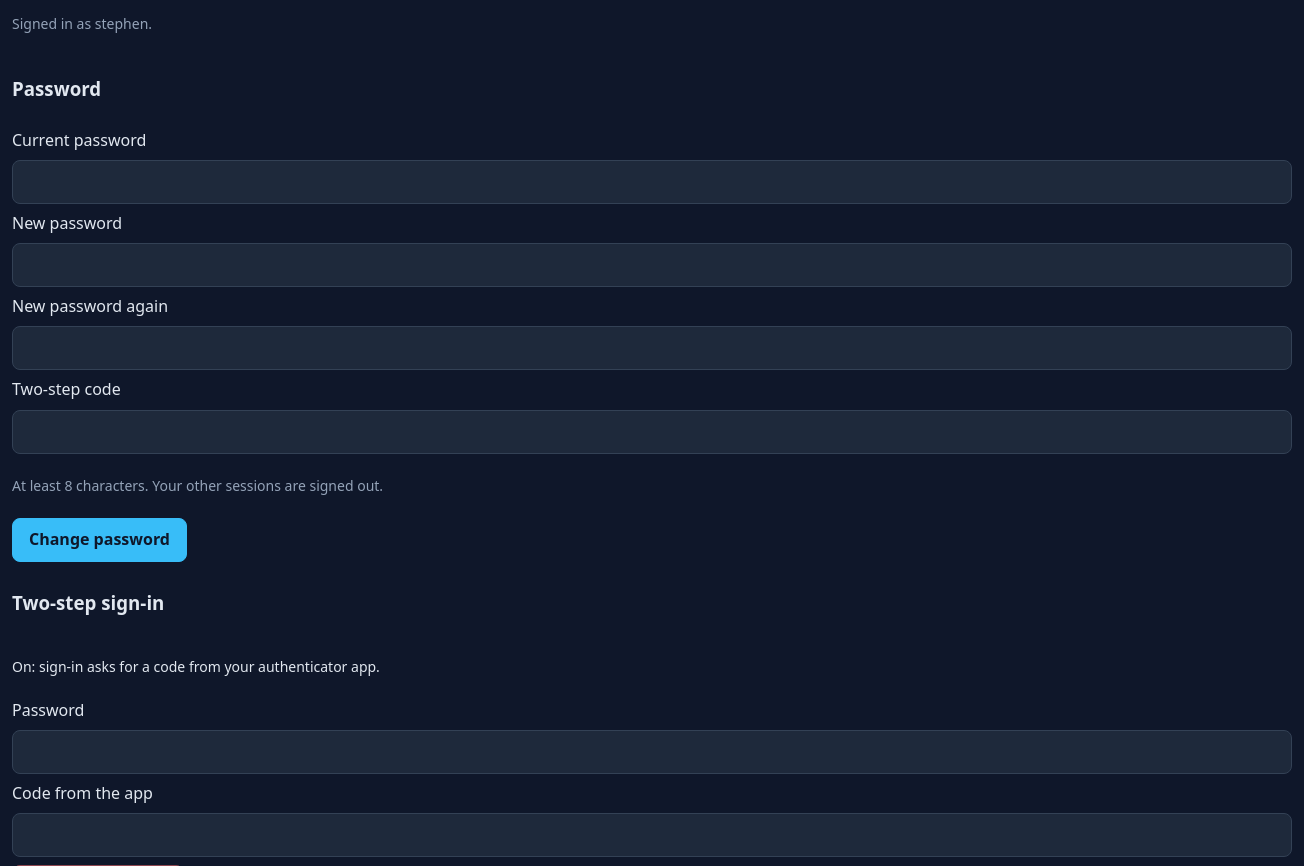
it: Security: password change (acceptance test 7) › with two-step on, the code is sent too; a 403 bad_credentials shows the server's message
Type "123456" into the field labelled "Two-step code". click: (652, 432)
box: left=12, top=410, right=1292, bottom=454
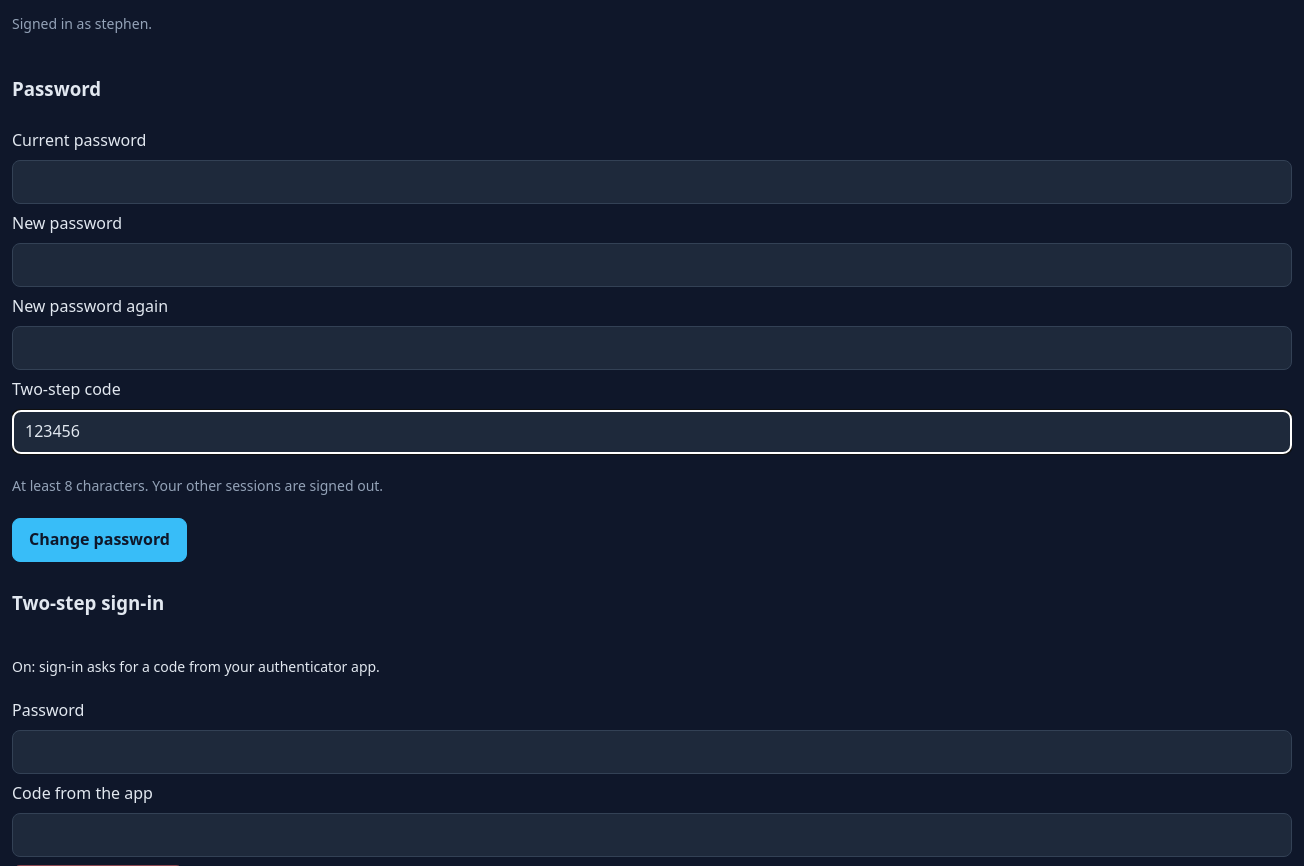
Type "old-password" into the password field labelled "Current password". click: (652, 182)
box: left=12, top=160, right=1292, bottom=204
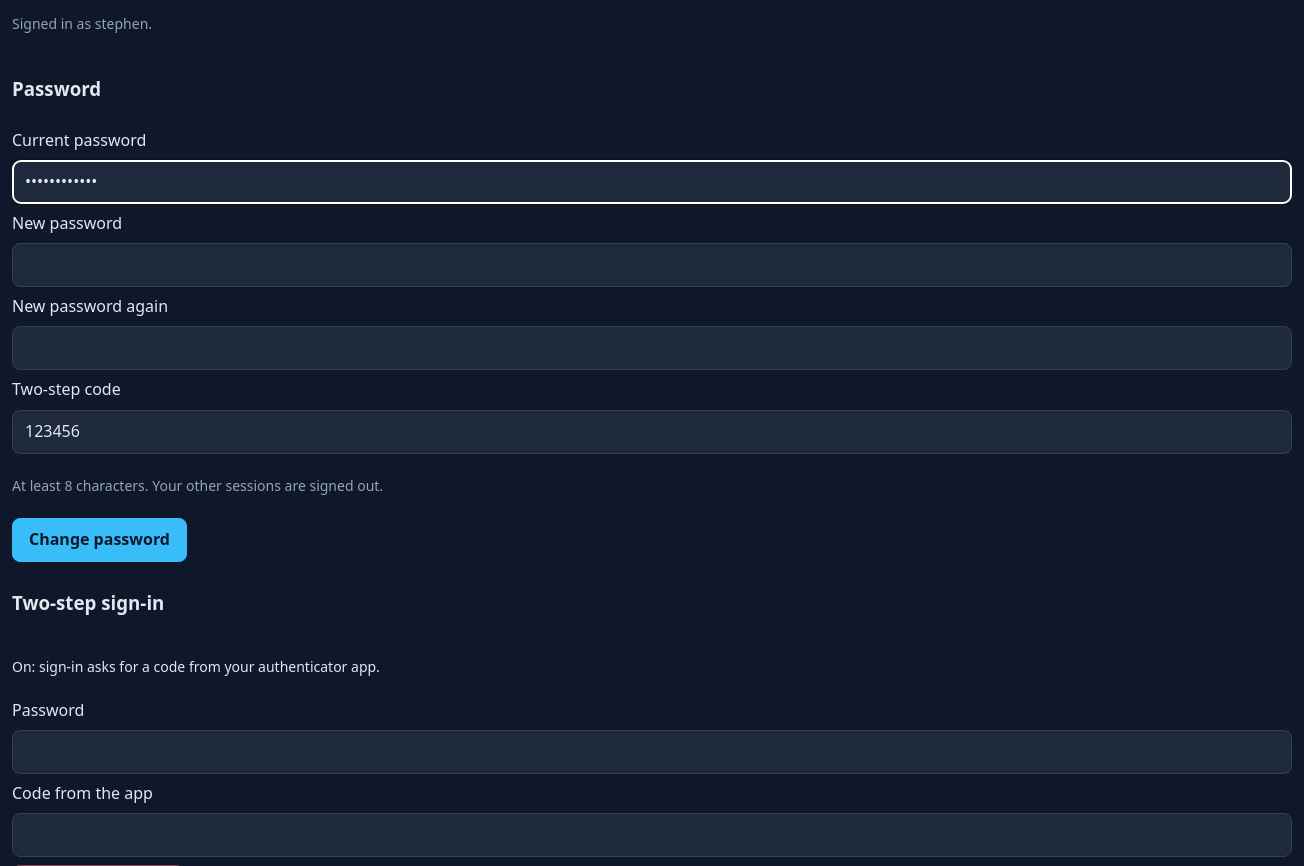
Type "abcdefgh" into the password field labelled "New password". click: (652, 265)
box: left=12, top=243, right=1292, bottom=287
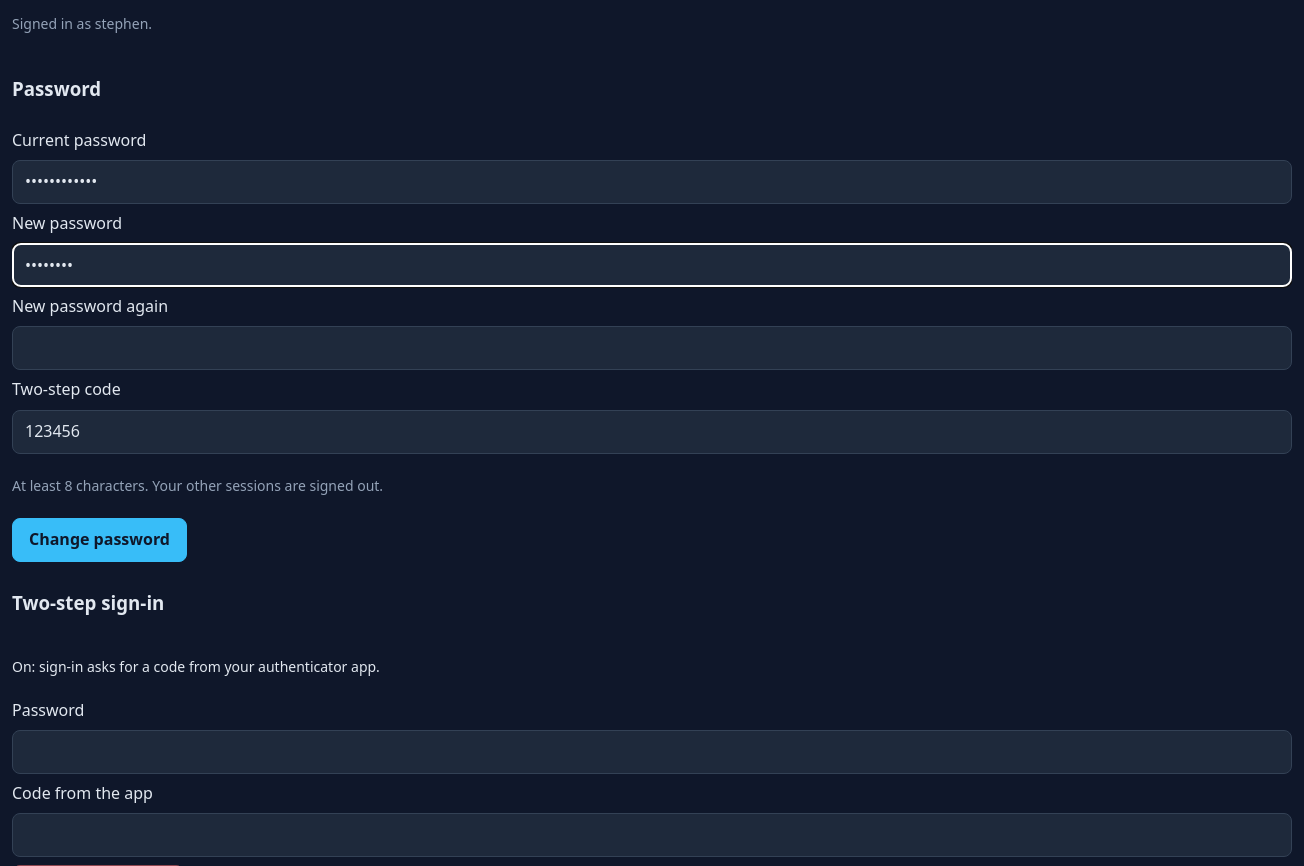
Type "abcdefgh" into the password field labelled "New password again". click: (652, 348)
box: left=12, top=326, right=1292, bottom=370
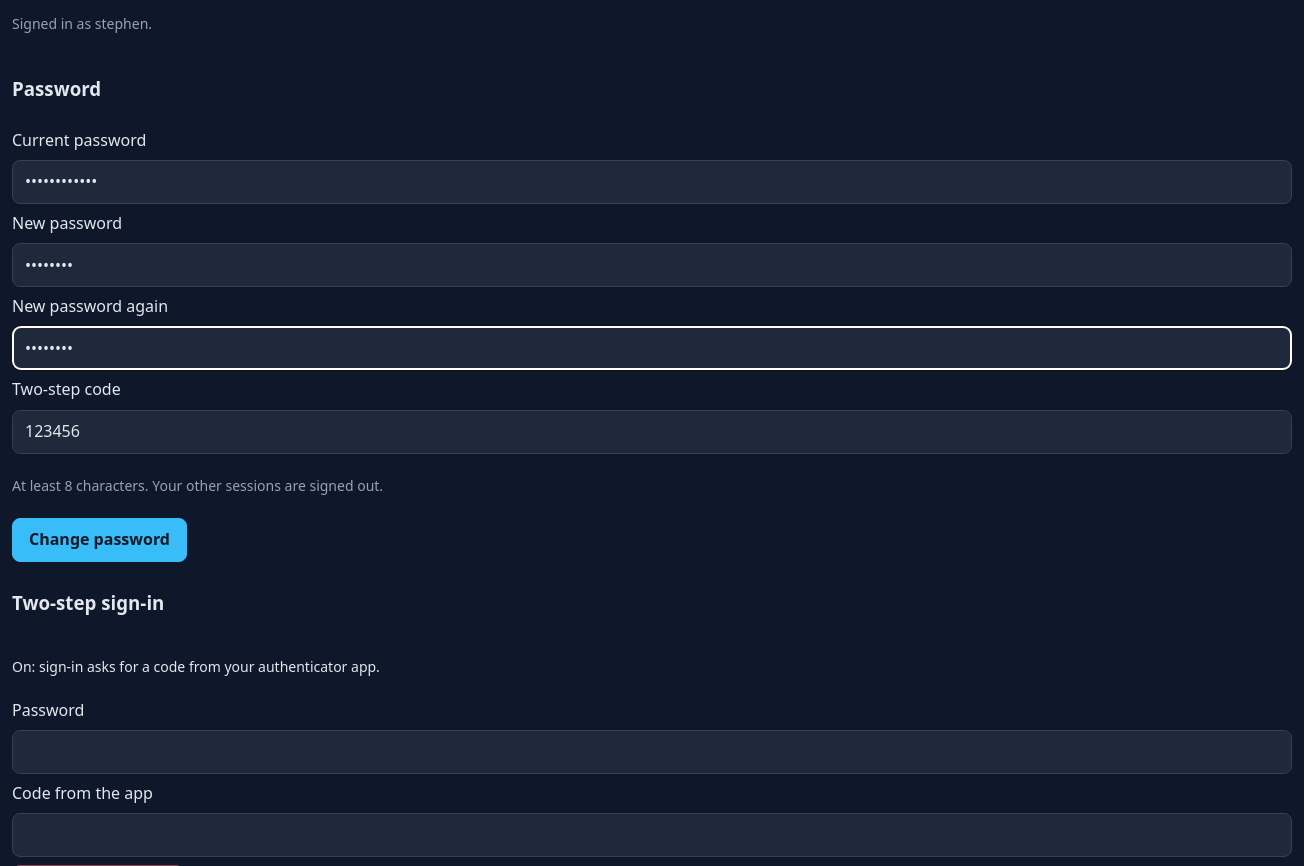
Click the button "Change password". click: (100, 540)
box: left=12, top=518, right=187, bottom=562
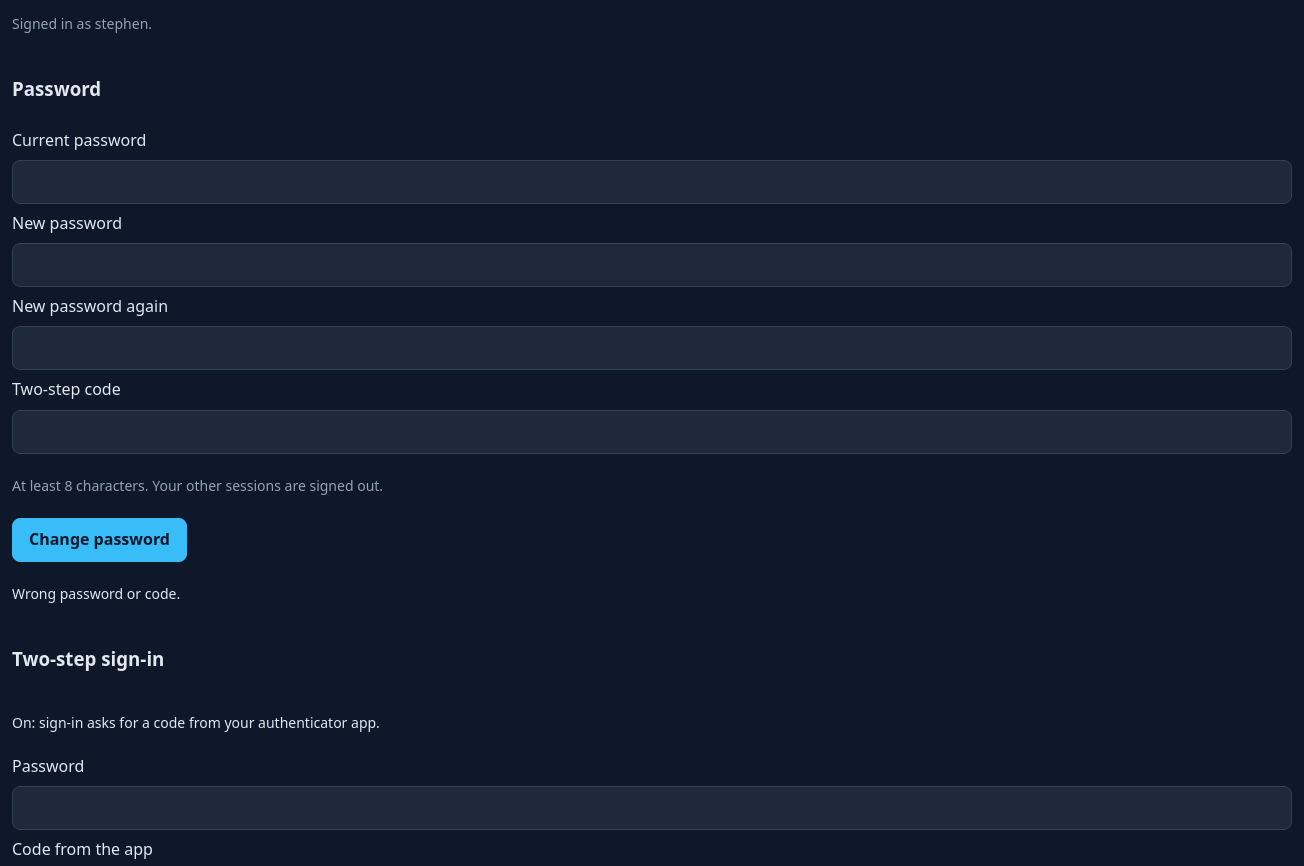
Check: the message reads "Wrong password or code.", box left=12, top=584, right=180, bottom=603
Check: the field labelled "Two-step code" is empty, box left=12, top=410, right=1292, bottom=454
